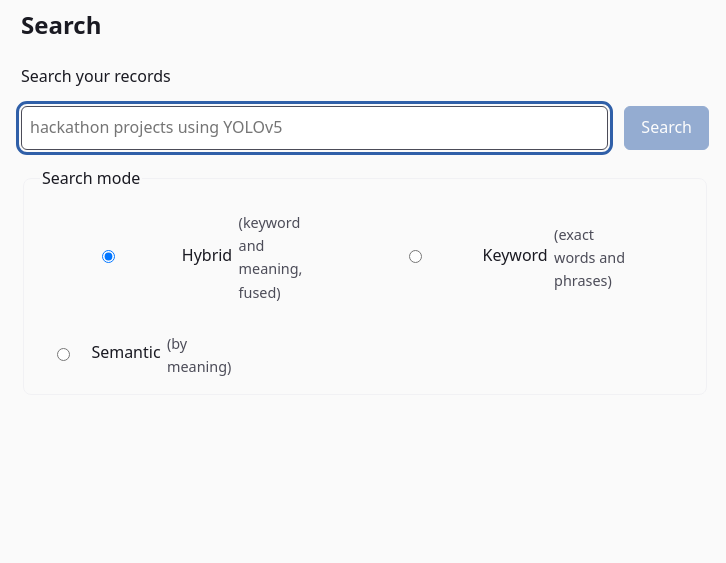
Test case: SearchPage (MVP-018; FS-004; NFR-043; ACCESSIBILITY 4.3/4.5) › renders a zero-result state that suggests without fabricating
In the search field labelled "Search your records": (315, 128) x1=21 y1=106 x2=608 y2=150, type "quixotic theremin"
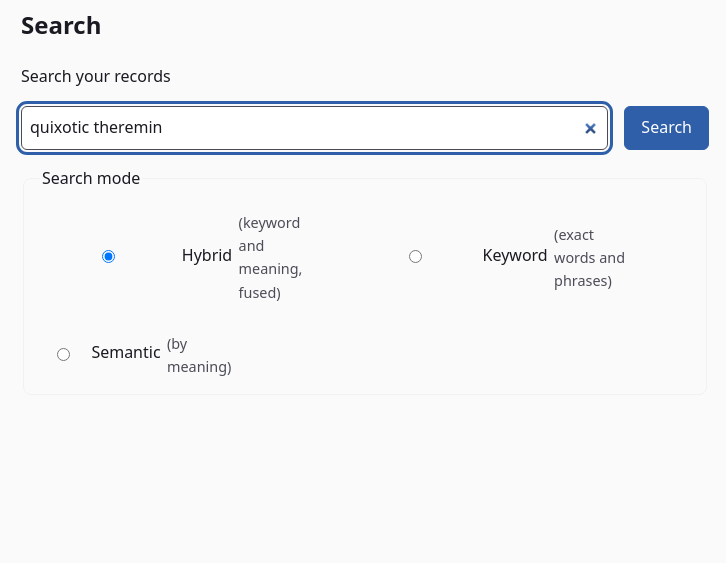
Click the button "Search": (667, 128) x1=624 y1=106 x2=709 y2=150
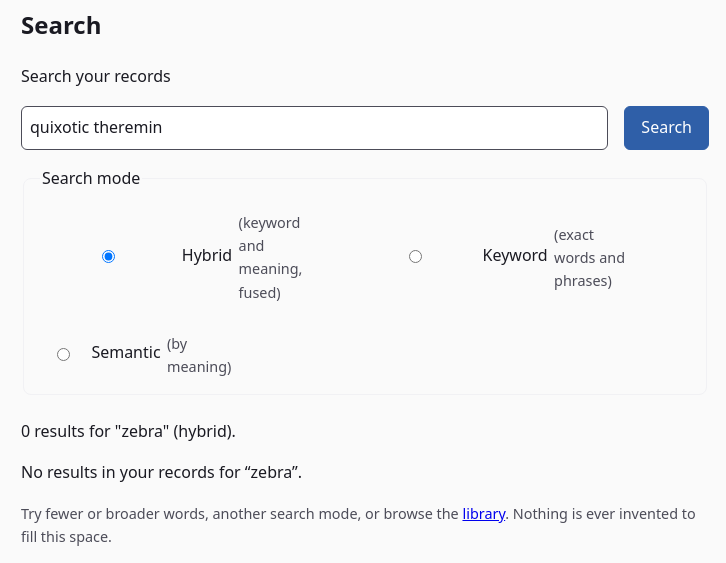
expect the text "No results in your records for “zebra”." is shown: met, box x1=21 y1=461 x2=302 y2=483
expect the text "Nothing is ever invented" is shown: met, box x1=21 y1=504 x2=696 y2=546
expect the link "library" is shown: met, box x1=462 y1=504 x2=505 y2=523
